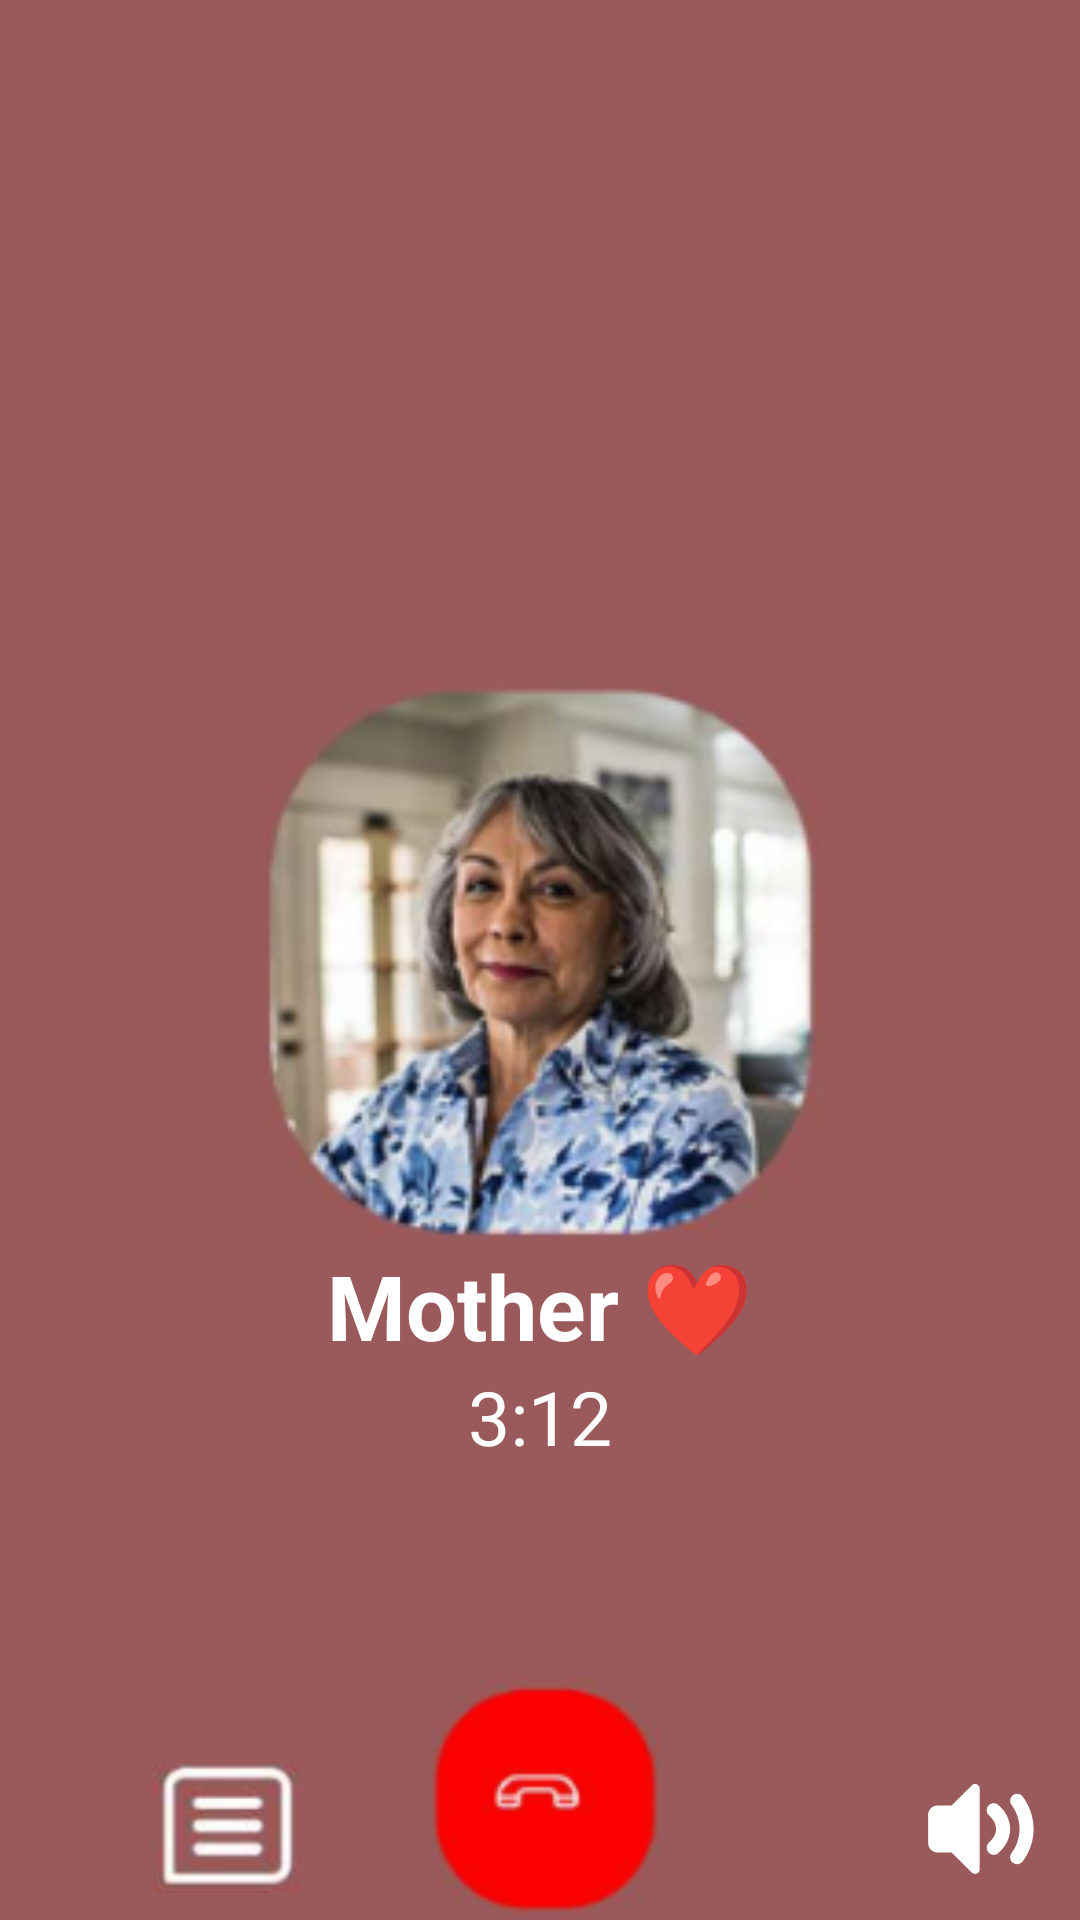

Where to tap for icons on this 1080w x 1920h app screen, as [x,y]:
callend: [545,1799]
sound on: [981,1829]
